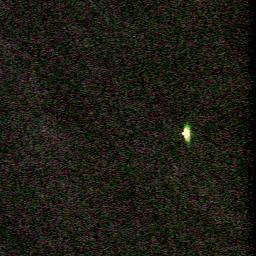Ship: (181, 122, 192, 144)
